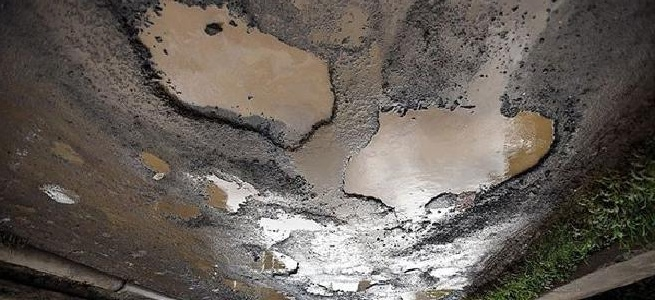pothole: (101, 0, 339, 154), (338, 102, 559, 220), (191, 171, 252, 216), (152, 197, 207, 229), (253, 244, 300, 279), (131, 149, 172, 181), (316, 279, 379, 295), (425, 265, 460, 285)
